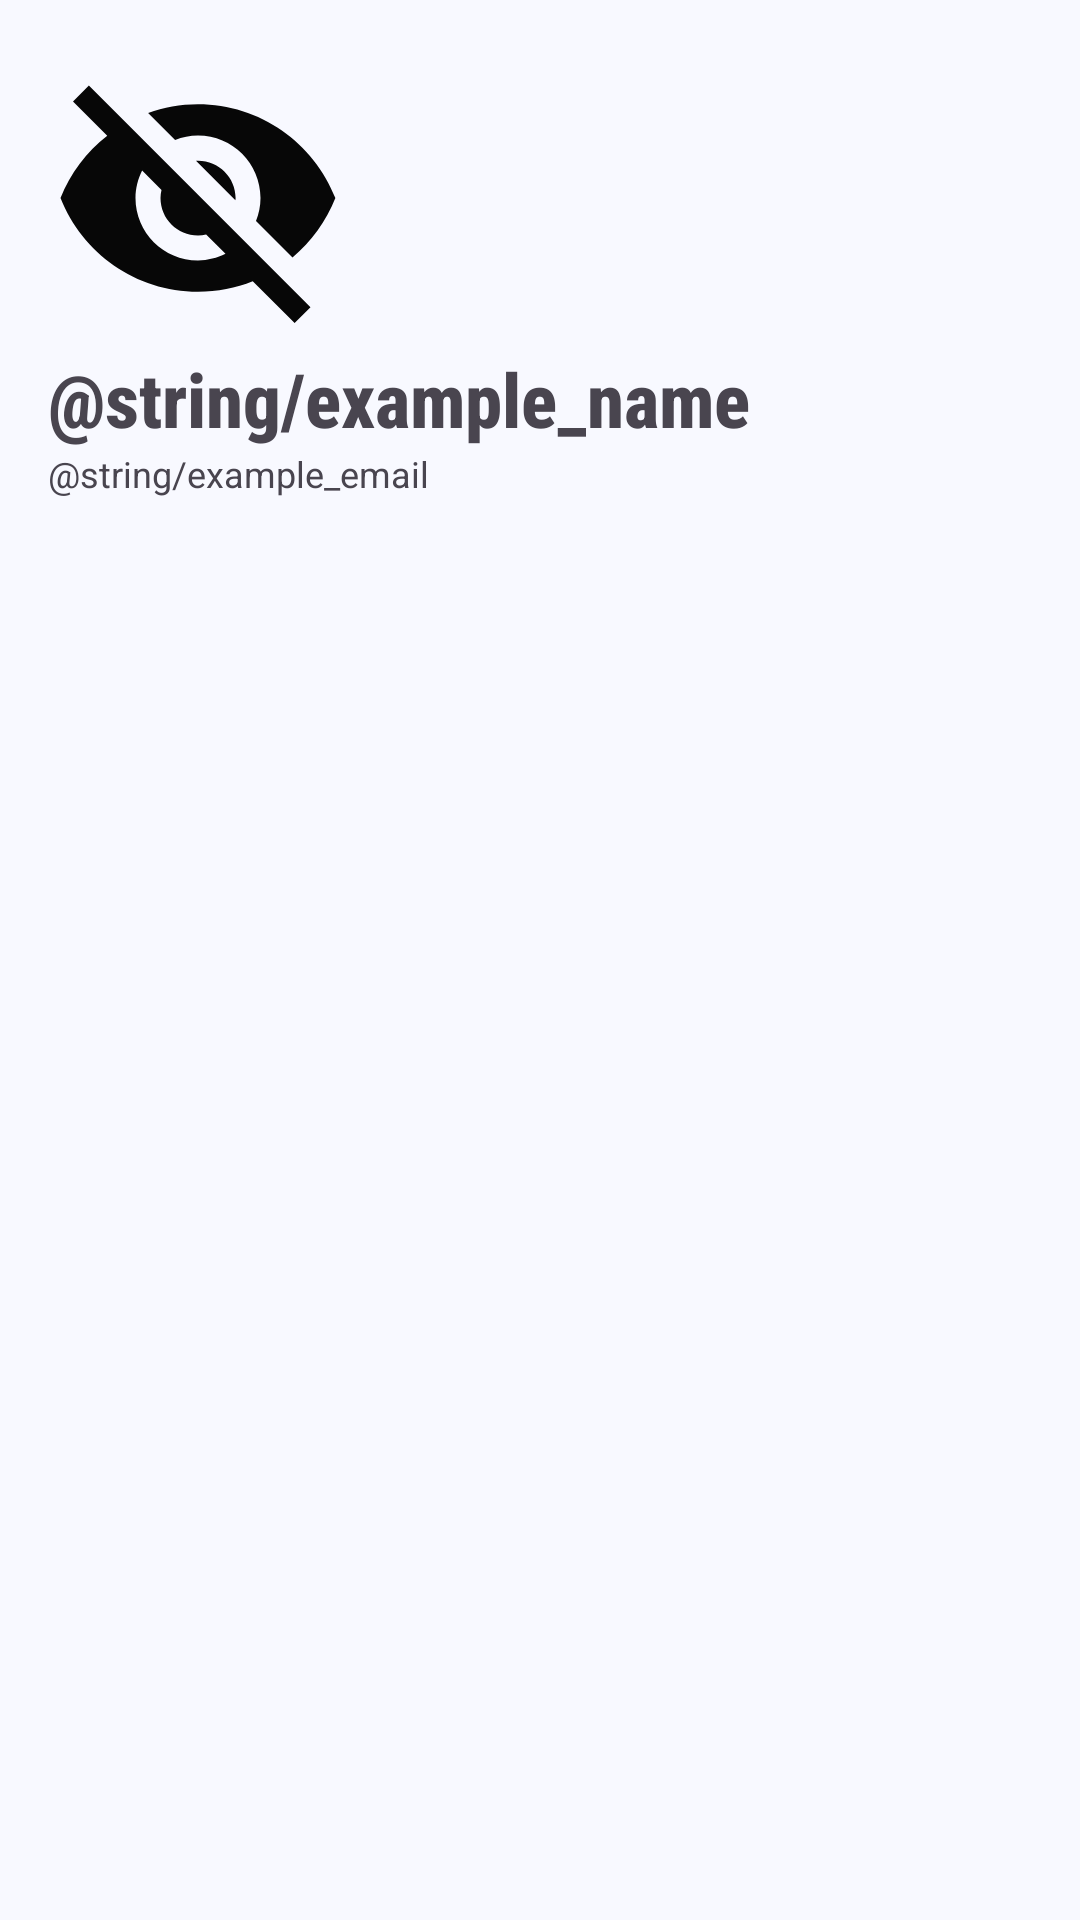

Icons on this 1080×1920 Android screen, each with the point to tap as (x,y):
close eye: (198,204)
